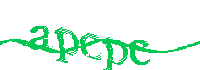a: (28, 25, 49, 52)
c: (80, 33, 103, 62), (130, 37, 150, 68)
p: (56, 25, 78, 63), (104, 37, 127, 70)
